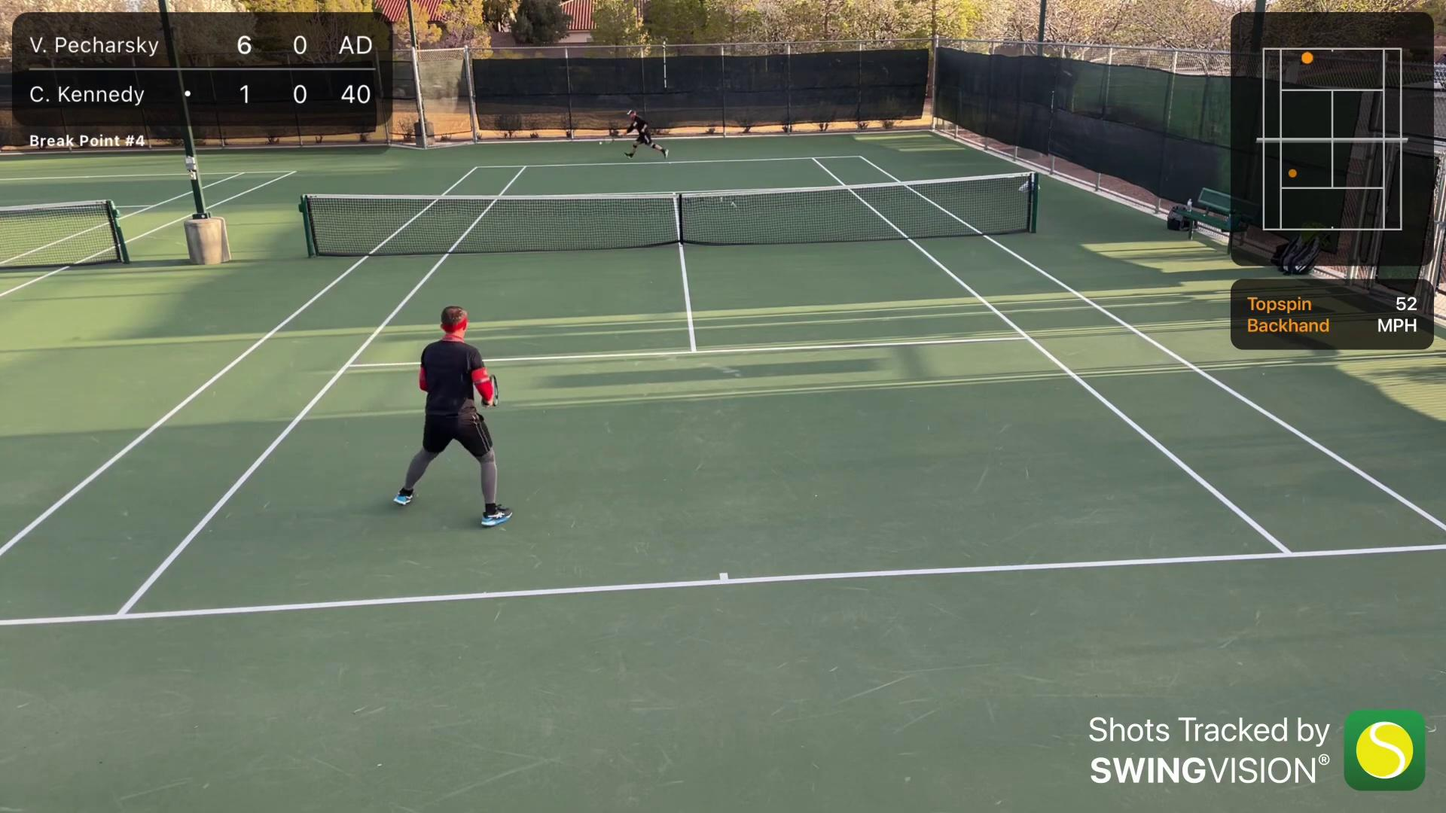ball: (598, 140, 604, 145)
